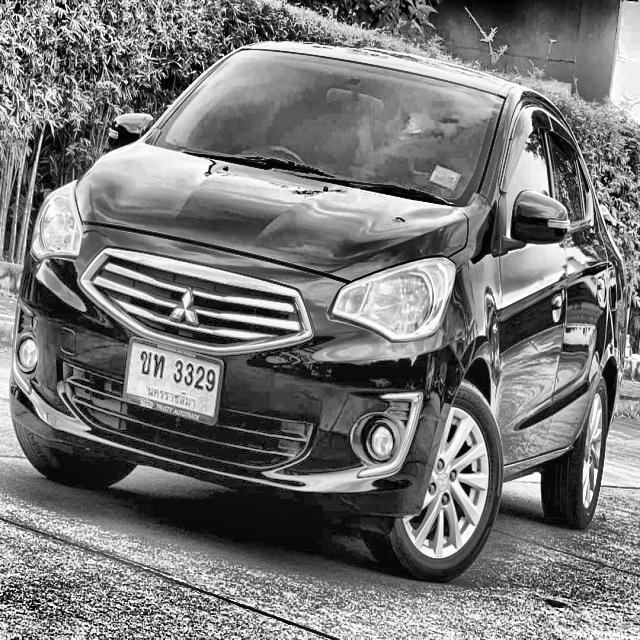license-plate: (116, 332, 225, 434)
